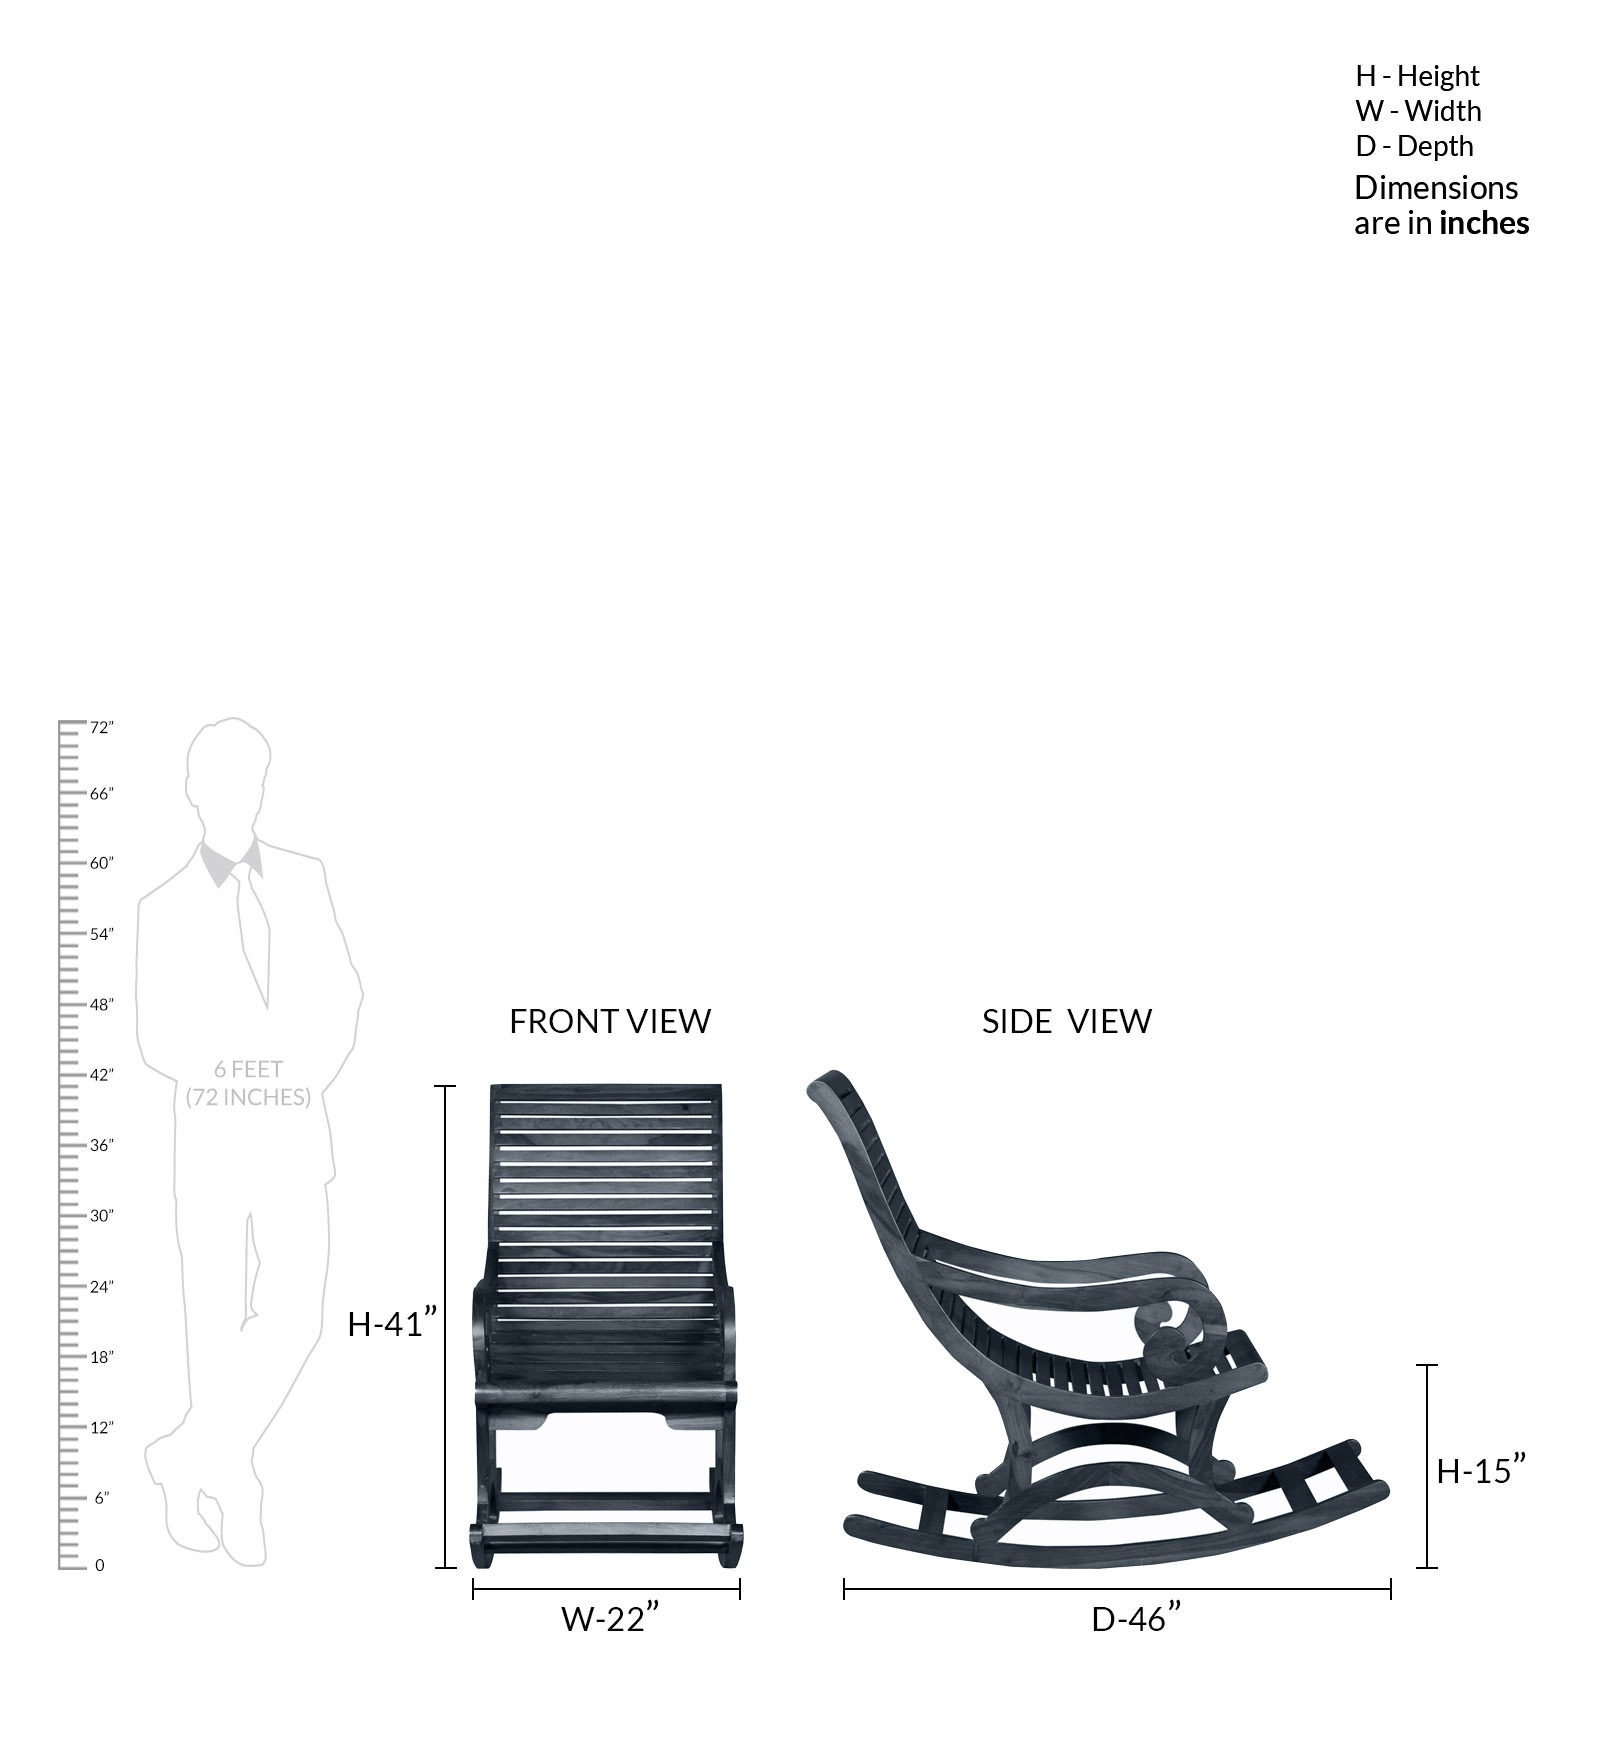Wellesley Rocking Chair in Warm Chestnut Finish by Amberville: (792, 1052, 1407, 1571), (458, 1062, 759, 1574)
